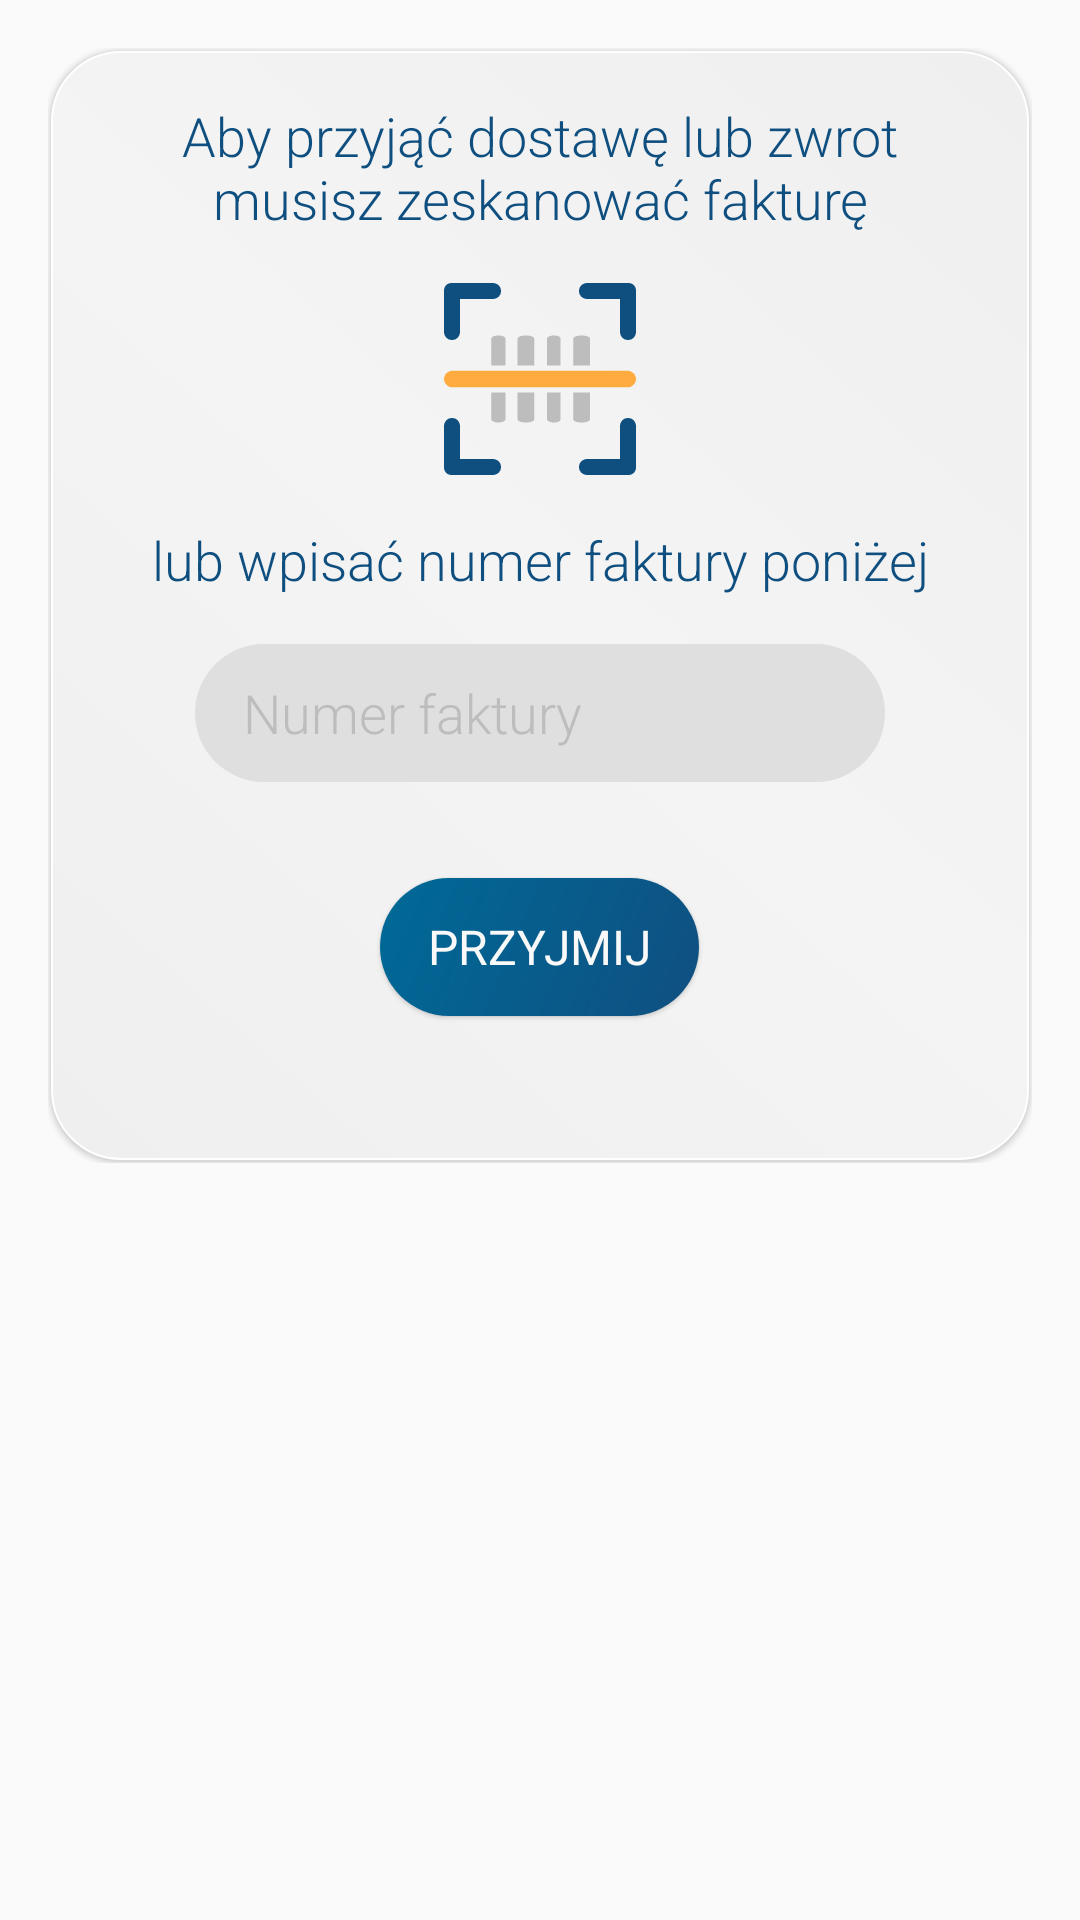

Screen size 1080*1920. Icon name, then its center in pixels as point (x, y):
barcode: point (540, 379)
